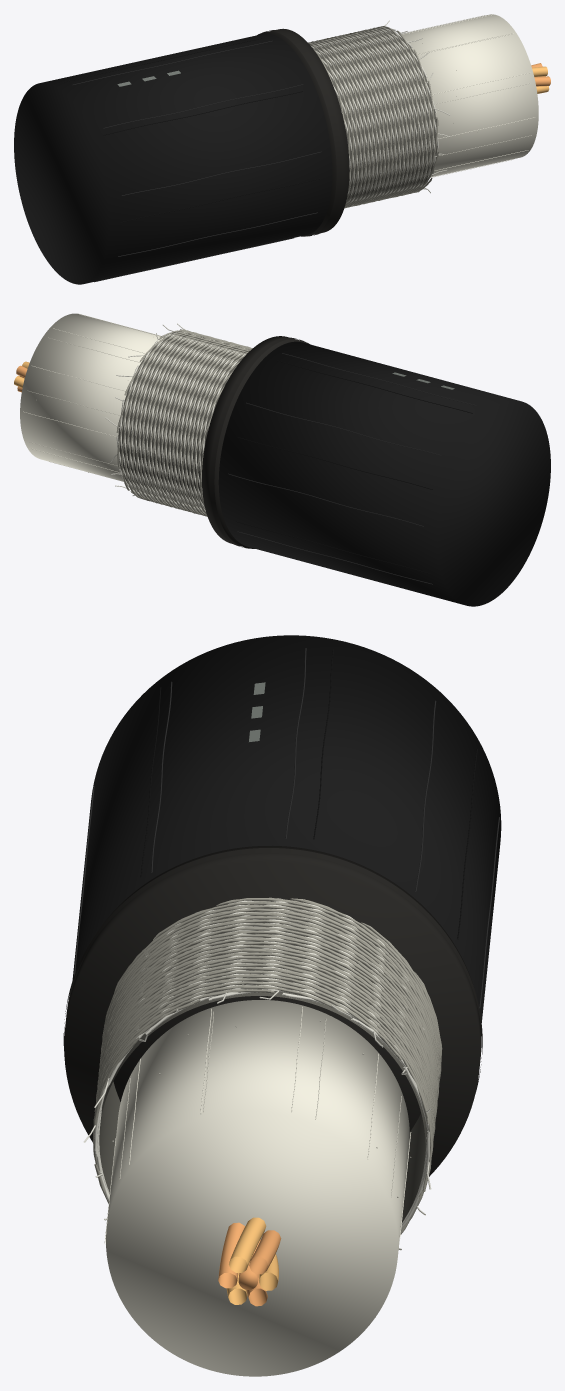
File: rf-syv509-macro.glb
The picture shows the model from 3 angles, top to bottom: view 1: azimuth 30°, elevation 25°; view 2: azimuth 150°, elevation 25°; view 3: azimuth 270°, elevation 25°; orthographic projection. The views are drawn at different scales.
Visible parts, largest first — view 1: macro jacket body, macro dielectric exposed core, shadow seen through braid windows, thick jacket cut wall, rounded jacket cut lip, macro braid shadow carrier 06 strand 1, macro braid shadow carrier 05 strand 1, macro braid shadow carrier 04 strand 1, macro braid shadow carrier 03 strand 1, macro braid shadow carrier 07 strand 1, macro braid shadow carrier 02 strand 1, macro braid shadow carrier 01 strand 1 (+11 smaller); view 2: macro jacket body, macro dielectric exposed core, shadow seen through braid windows, thick jacket cut wall, rounded jacket cut lip, macro braid shadow carrier 14 strand 1, macro braid shadow carrier 01 strand 1, macro braid shadow carrier 13 strand 1, macro braid shadow carrier 12 strand 1, macro braid shadow carrier 02 strand 1, macro braid shadow carrier 11 strand 1, macro braid shadow carrier 03 strand 1 (+7 smaller); view 3: macro dielectric exposed core, macro jacket body, thick jacket cut wall, shadow seen through braid windows, rounded jacket cut lip, macro braid shadow carrier 02 strand 3, macro braid shadow carrier 01 strand 3, macro braid shadow carrier 03 strand 3, macro braid shadow carrier 14 strand 3, macro braid shadow carrier 13 strand 3, macro braid shadow carrier 11 strand 3, macro braid shadow carrier 12 strand 3 (+9 smaller).
Part boxes in pixels (<box>): macro jacket body: <box>14,33,332,284</box>; macro dielectric exposed core: <box>401,14,538,177</box>; shadow seen through braid windows: <box>314,30,437,201</box>; thick jacket cut wall: <box>257,28,349,236</box>; rounded jacket cut lip: <box>262,30,341,236</box>; macro braid shadow carrier 06 strand 1: <box>330,30,425,207</box>; macro braid shadow carrier 05 strand 1: <box>326,26,422,205</box>; macro braid shadow carrier 04 strand 1: <box>324,27,418,202</box>; macro braid shadow carrier 03 strand 1: <box>319,28,414,199</box>; macro braid shadow carrier 07 strand 1: <box>335,36,430,208</box>; macro braid shadow carrier 02 strand 1: <box>315,28,410,199</box>; macro braid shadow carrier 01 strand 1: <box>312,29,407,201</box>; macro jacket body: <box>218,341,550,606</box>; macro dielectric exposed core: <box>20,313,163,481</box>; shadow seen through braid windows: <box>118,334,247,509</box>; thick jacket cut wall: <box>202,336,309,548</box>; rounded jacket cut lip: <box>209,337,304,548</box>; macro braid shadow carrier 14 strand 1: <box>125,336,248,513</box>; macro braid shadow carrier 01 strand 1: <box>122,335,250,512</box>; macro braid shadow carrier 13 strand 1: <box>129,337,245,513</box>; macro braid shadow carrier 12 strand 1: <box>133,338,241,514</box>; macro braid shadow carrier 02 strand 1: <box>117,334,251,510</box>; macro braid shadow carrier 11 strand 1: <box>136,339,234,516</box>; macro braid shadow carrier 03 strand 1: <box>116,333,252,509</box>; macro dielectric exposed core: <box>106,1000,409,1376</box>; macro jacket body: <box>72,635,501,1022</box>; thick jacket cut wall: <box>64,845,481,1176</box>; shadow seen through braid windows: <box>99,905,427,1222</box>; rounded jacket cut lip: <box>63,848,482,1091</box>; macro braid shadow carrier 02 strand 3: <box>98,923,433,1185</box>; macro braid shadow carrier 01 strand 3: <box>102,919,437,1234</box>; macro braid shadow carrier 03 strand 3: <box>96,928,437,1118</box>; macro braid shadow carrier 14 strand 3: <box>96,916,438,1118</box>; macro braid shadow carrier 13 strand 3: <box>98,913,438,1134</box>; macro braid shadow carrier 11 strand 3: <box>98,905,439,1110</box>; macro braid shadow carrier 12 strand 3: <box>102,908,437,1139</box>.
Size of the model in its own units: 6.49 by 2.47 by 2.58.
